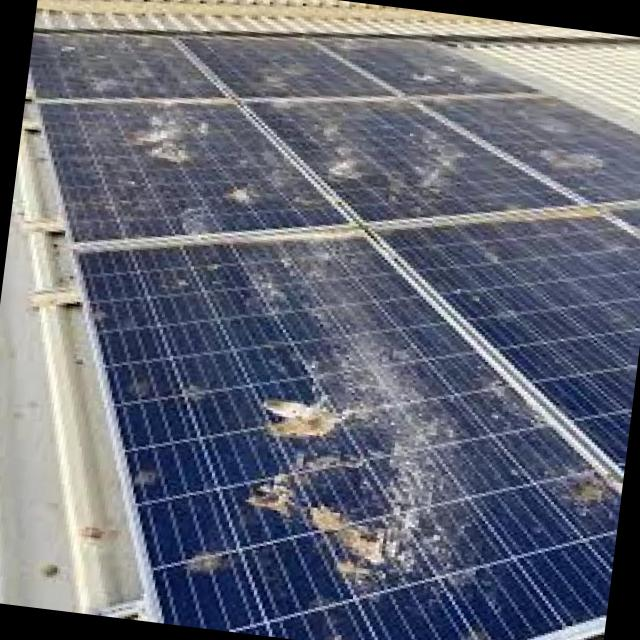faulty: (78, 234, 621, 640), (376, 217, 640, 468), (39, 103, 351, 240), (261, 98, 574, 224), (426, 97, 640, 208), (312, 33, 530, 100), (184, 34, 402, 99), (31, 30, 220, 99)
